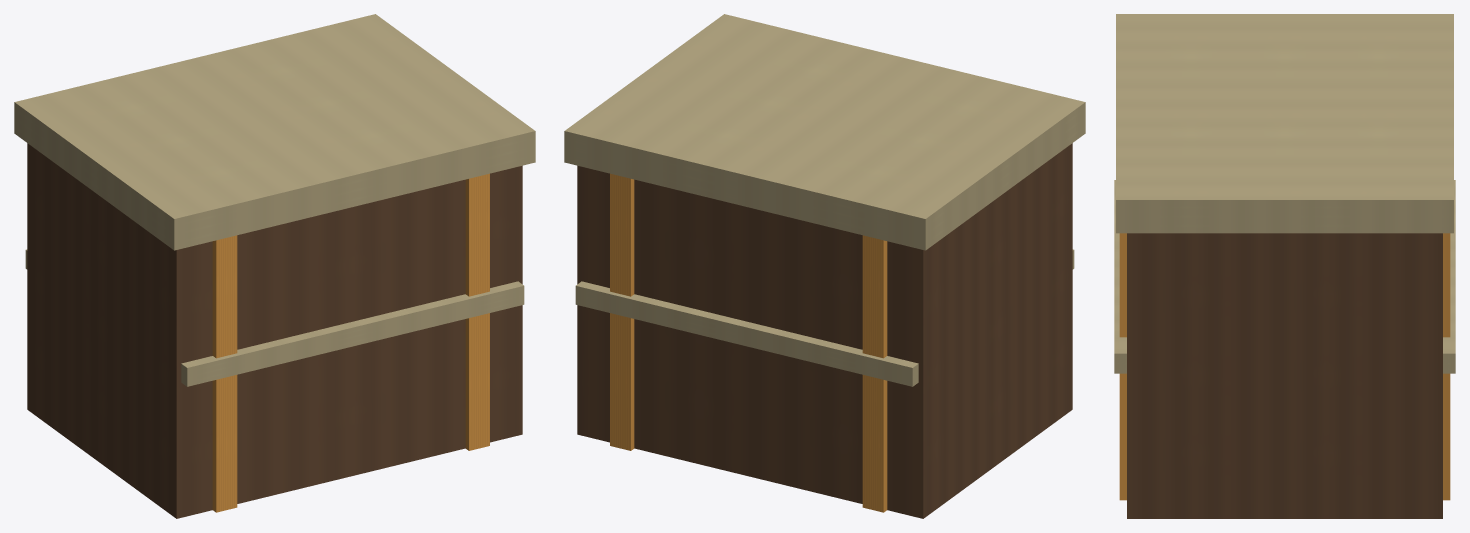
The model's file is atlas100-clockwork-util02.lod1.glb.
3 renders of one model, left to right at view 1: azimuth 30°, elevation 25°; view 2: azimuth 150°, elevation 25°; view 3: azimuth 270°, elevation 25°, orthographic. The views are drawn at different scales.
Visible parts, largest first — view 1: atlas100-clockwork-util02:part-000, atlas100-clockwork-util02:part-005, atlas100-clockwork-util02:part-004, atlas100-clockwork-util02:part-001, atlas100-clockwork-util02:part-002; view 2: atlas100-clockwork-util02:part-000, atlas100-clockwork-util02:part-005, atlas100-clockwork-util02:part-003, atlas100-clockwork-util02:part-001, atlas100-clockwork-util02:part-002; view 3: atlas100-clockwork-util02:part-000, atlas100-clockwork-util02:part-005, atlas100-clockwork-util02:part-002, atlas100-clockwork-util02:part-003, atlas100-clockwork-util02:part-004.
Part boxes in pixels (left/top/right/bottom): atlas100-clockwork-util02:part-000: left=27, top=143, right=522, bottom=518; atlas100-clockwork-util02:part-005: left=14, top=14, right=535, bottom=250; atlas100-clockwork-util02:part-004: left=181, top=281, right=524, bottom=386; atlas100-clockwork-util02:part-001: left=212, top=235, right=237, bottom=512; atlas100-clockwork-util02:part-002: left=465, top=173, right=489, bottom=450; atlas100-clockwork-util02:part-000: left=577, top=143, right=1072, bottom=518; atlas100-clockwork-util02:part-005: left=564, top=14, right=1085, bottom=250; atlas100-clockwork-util02:part-003: left=575, top=281, right=918, bottom=386; atlas100-clockwork-util02:part-001: left=862, top=235, right=887, bottom=512; atlas100-clockwork-util02:part-002: left=610, top=173, right=634, bottom=450; atlas100-clockwork-util02:part-000: left=1127, top=233, right=1442, bottom=518; atlas100-clockwork-util02:part-005: left=1116, top=14, right=1453, bottom=233; atlas100-clockwork-util02:part-002: left=1119, top=233, right=1450, bottom=500; atlas100-clockwork-util02:part-003: left=1443, top=180, right=1455, bottom=373; atlas100-clockwork-util02:part-004: left=1114, top=180, right=1126, bottom=373.
Size of the model in its own units: 1.34 by 1.08 by 1.04.
3 materials, 3 textured.
